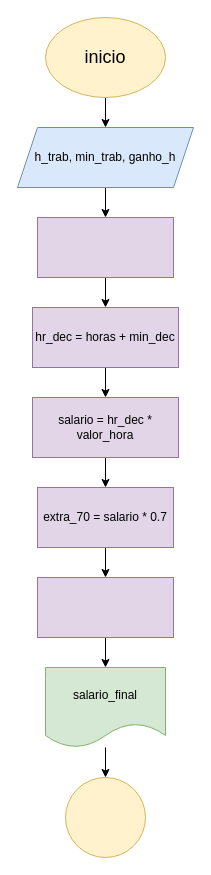
The diagram is 211 pixels wide and 875 high, and some of its shapes have lost their labels. Each missing label, with the centre of its shape:
"fim" belongs at point 105,817.
"min_dec = minutos / 60" belongs at point 105,247.
"salario_final = salario + extra_70" belongs at point 105,607.
